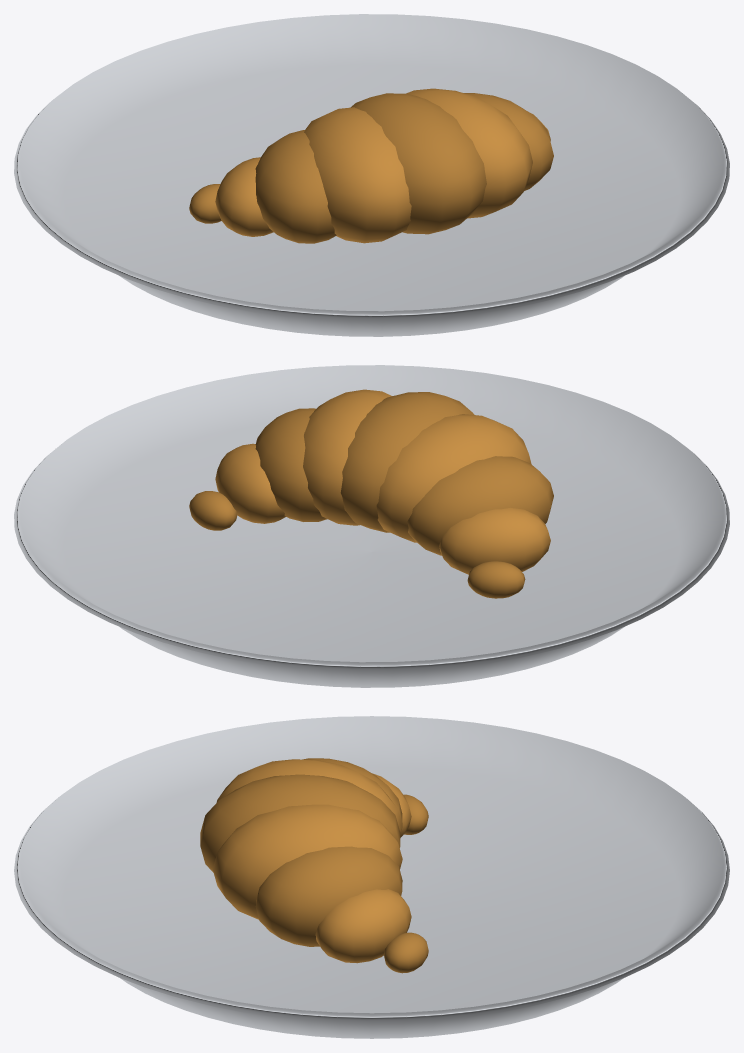
File: alba-croissant-vegano-vuoto.glb
3 renders of one model, top to bottom at view 1: azimuth 30°, elevation 25°; view 2: azimuth 150°, elevation 25°; view 3: azimuth 270°, elevation 25°, orthographic.
Size of the model in its own units: 0.22 by 0.0452 by 0.22.
